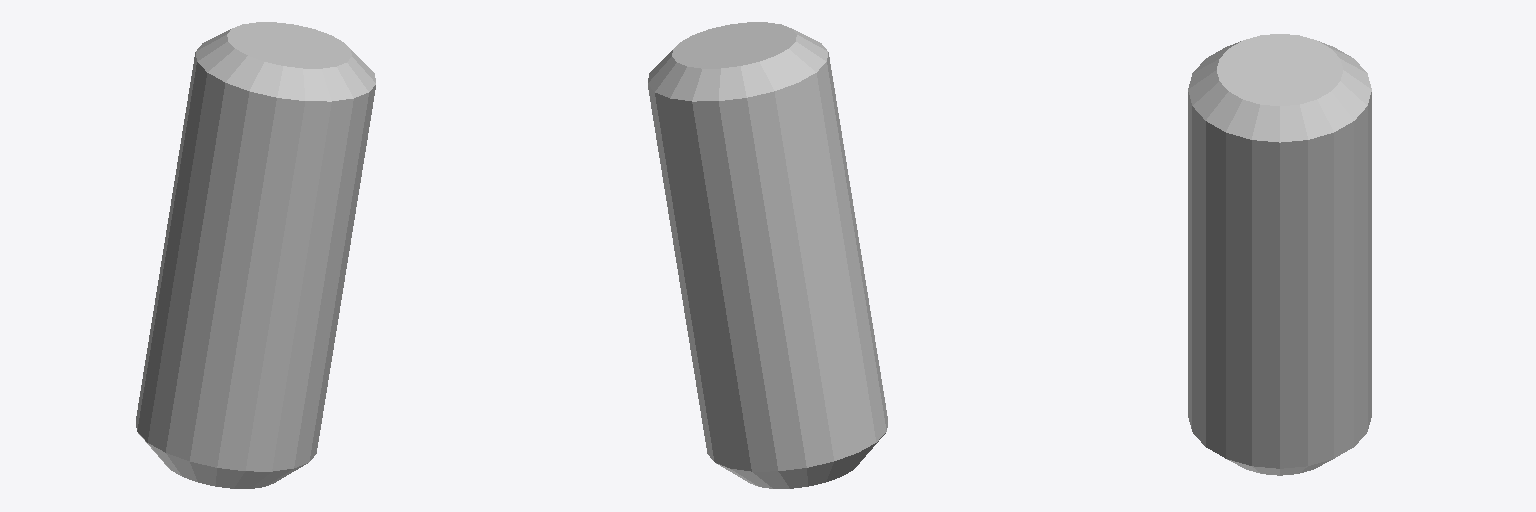
File: torso.obj
3 views of the same model, side by side, from view 1: azimuth 30°, elevation 25°; view 2: azimuth 150°, elevation 25°; view 3: azimuth 270°, elevation 25° (orthographic).
Visible parts, largest first — view 1: pTorso; view 2: pTorso; view 3: pTorso.
Boxes of the visible parts, x1,y1,x2,y2 form: pTorso: [136, 22, 375, 488]; pTorso: [648, 22, 887, 488]; pTorso: [1188, 34, 1371, 475].
Size of the model in its own units: 8.06 by 15.09 by 5.93.